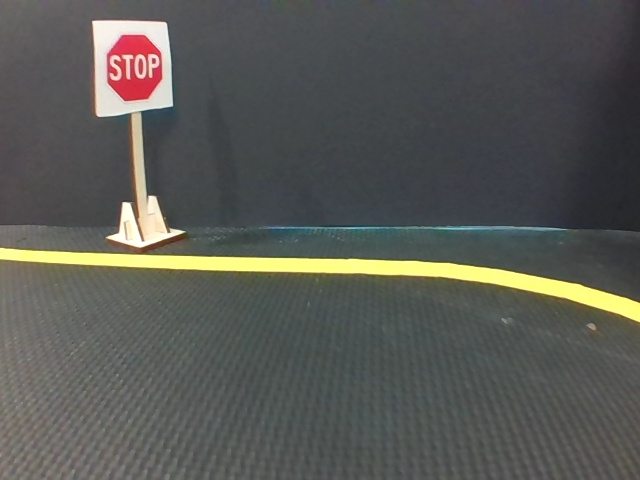stop: (96, 21, 172, 110)
